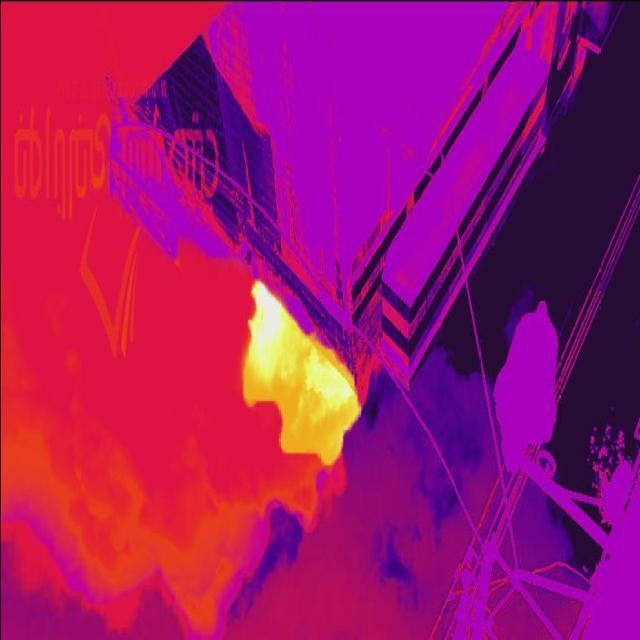fire: (237, 283, 368, 469)
